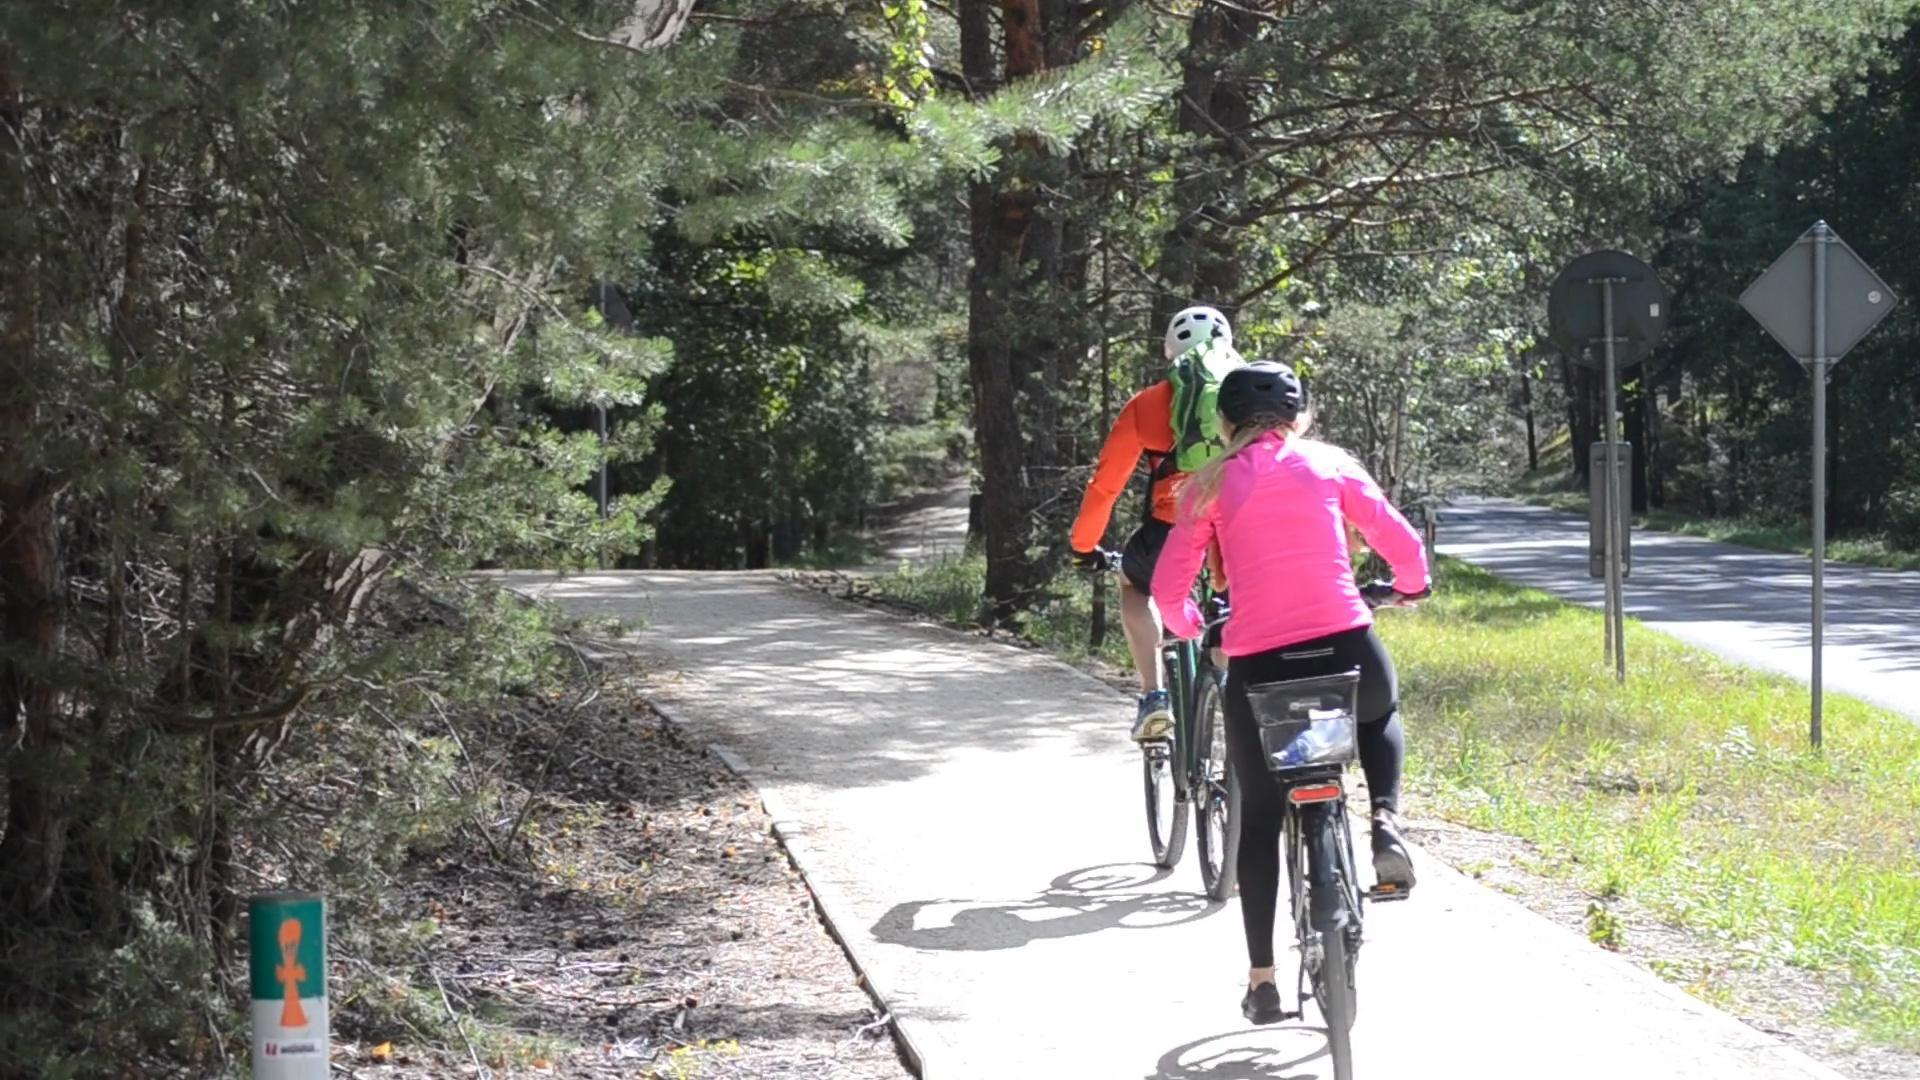cyclist: (1103, 316, 1518, 1079)
